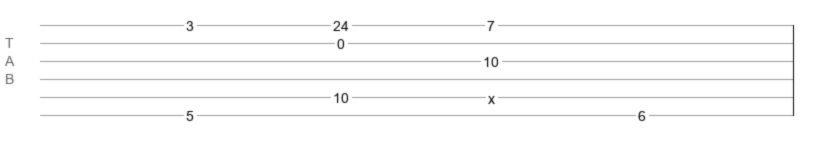0: (337, 36, 345, 46)
10: (333, 90, 349, 100), (483, 54, 499, 64)
24: (333, 18, 349, 28)
3: (186, 18, 194, 28)
5: (186, 108, 194, 118)
6: (638, 108, 646, 118)
7: (487, 18, 495, 28)
x: (488, 91, 495, 99)
